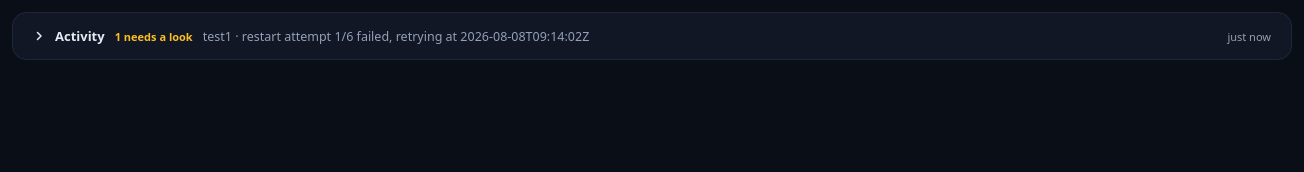
Test: EventsFeed › renders detail, the underlying cause, when present
The image size is (1304, 172).
Click the button "Activity" at (80, 36), box left=13, top=13, right=1291, bottom=59
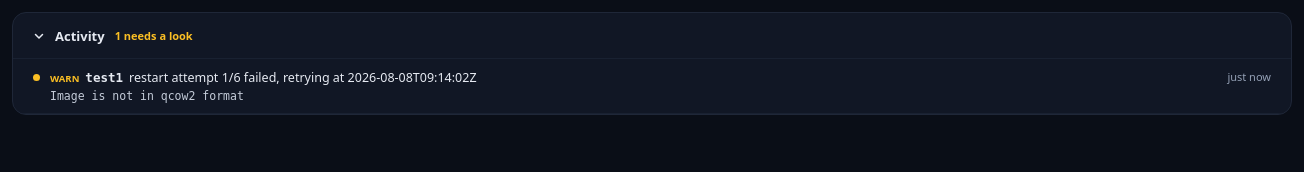
Now the text "Image is not in qcow2 format" is shown, box left=50, top=89, right=244, bottom=103
